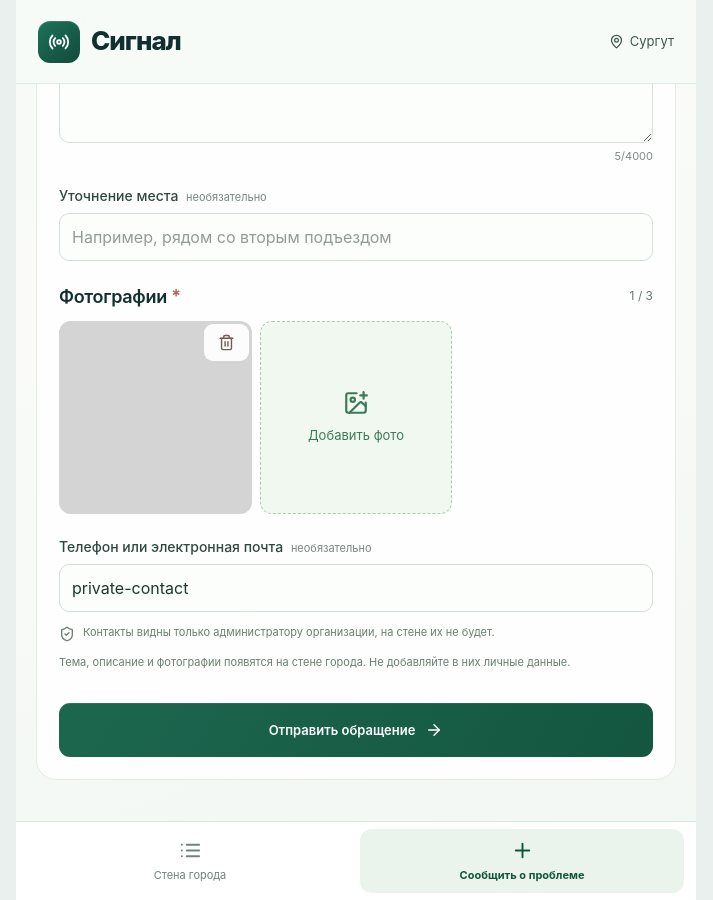
Test: restores gallery photos and submits map coordinates with stable organization and address identifiers
(page scrolled)
Click the button "Отправить обращение".
click(356, 730)  # box [59,703,653,757]
(page scrolled)
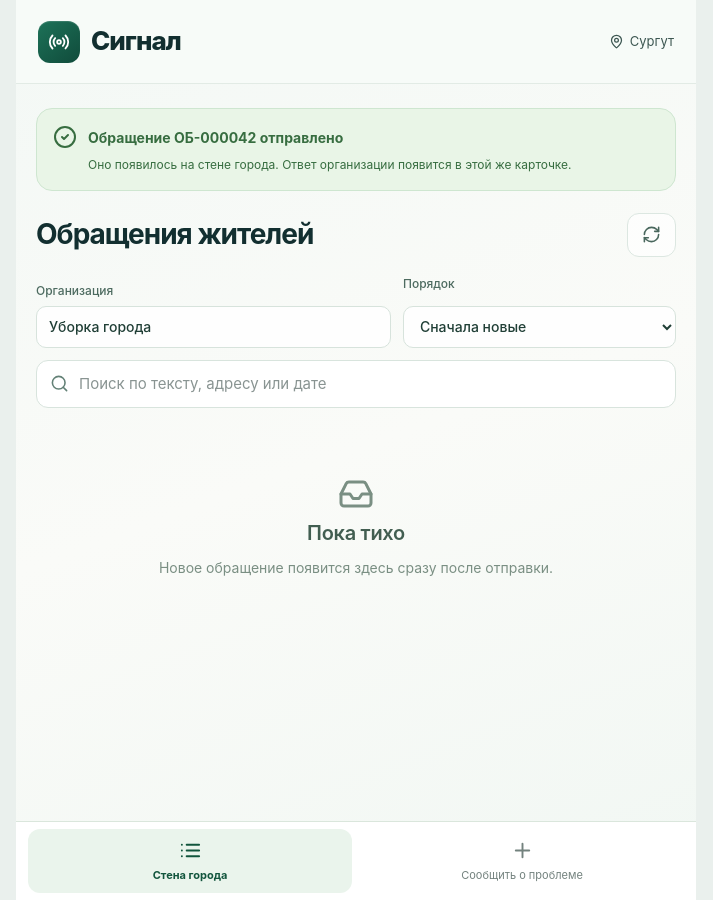
Result: the text "Обращение ОБ-000042 отправлено" is shown at [88,129,343,146]
Result: the heading "Обращения жителей" is shown at [36,218,313,252]
